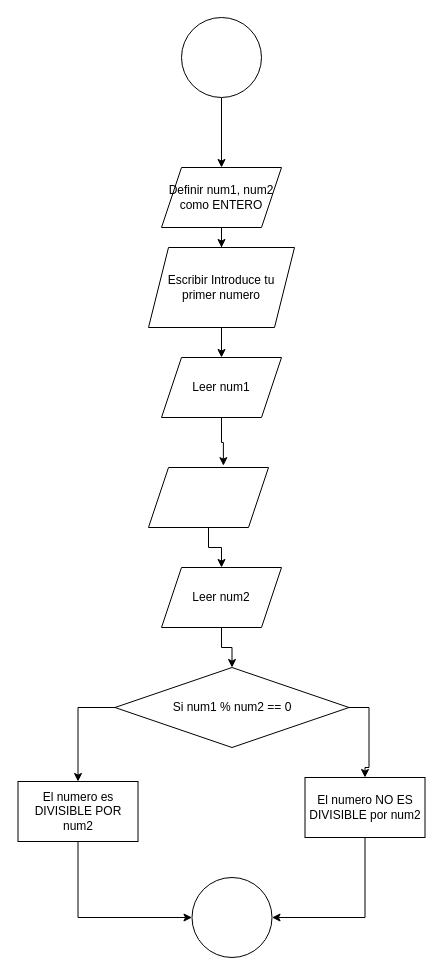
Image size: 442x975. Some labels were removed from this diagram. Here are the shapes that lost their labels. From the top down, the box of each, then its label:
(180, 16, 262, 98): INICIO
(148, 466, 268, 528): Escribir Introduzca tu segundo numero
(191, 876, 272, 958): FIN
